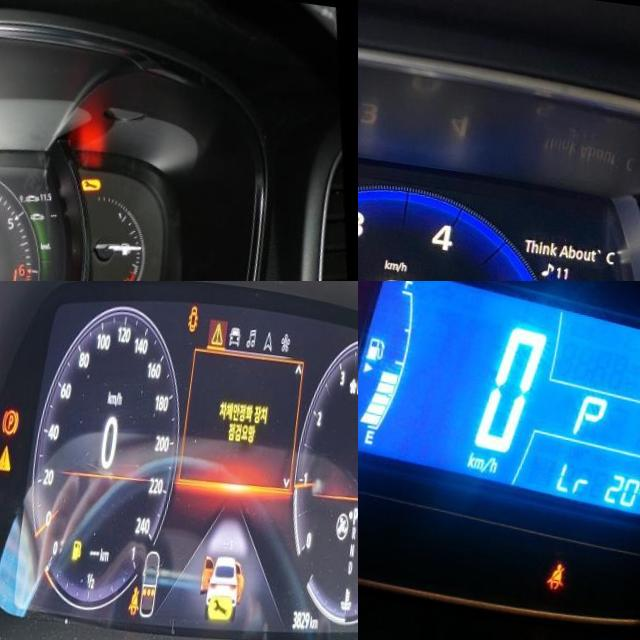Central Warning lamp: (6, 438, 25, 469)
Doors: (193, 296, 206, 324)
Low fuel level: (83, 532, 95, 556)
